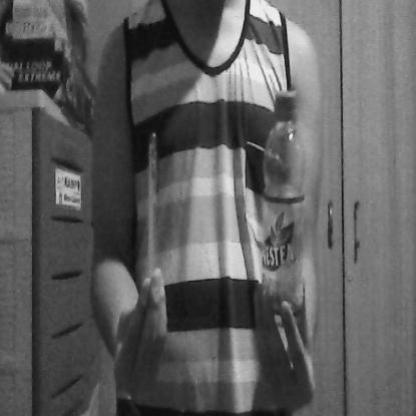Plastic Bottle: (259, 74, 312, 331)
